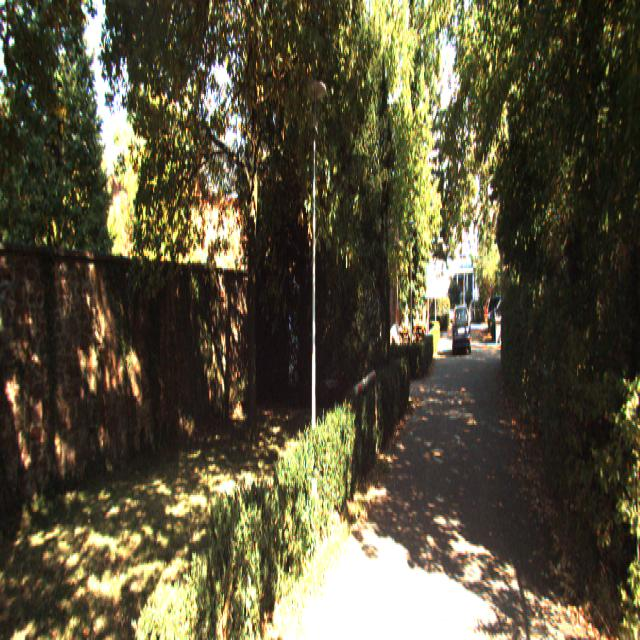Car: (453, 304, 472, 355)
